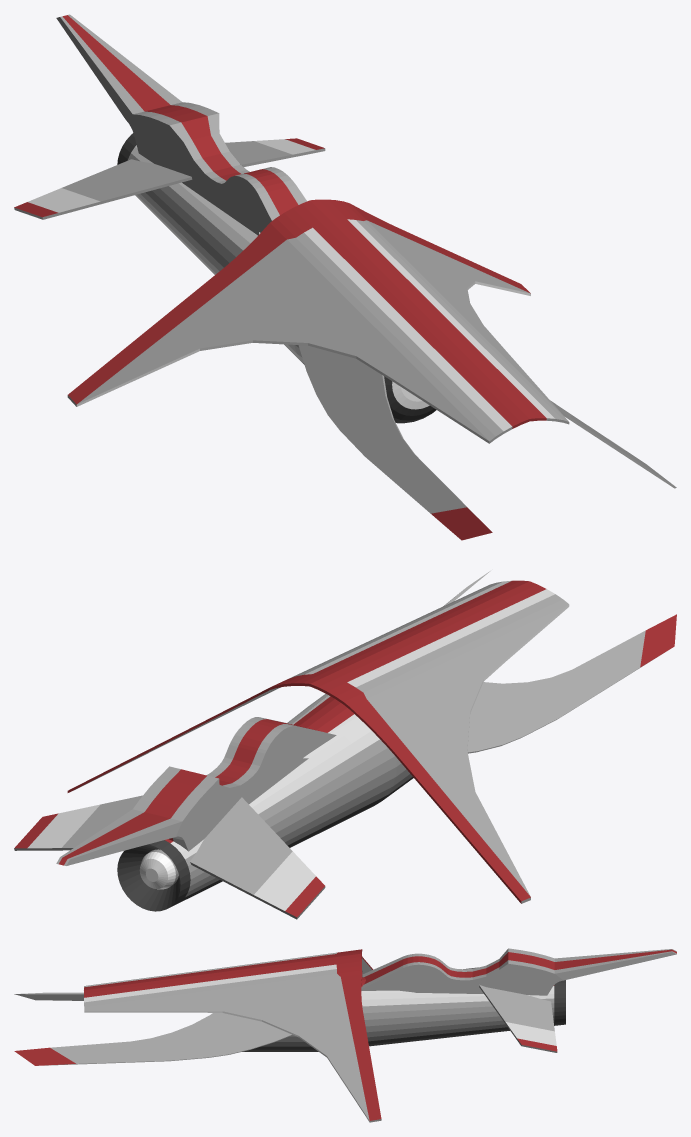
Rendered from speeder3.glb.
The picture shows the model from 3 angles, top to bottom: view 1: azimuth 30°, elevation 25°; view 2: azimuth 150°, elevation 25°; view 3: azimuth 270°, elevation 25°; orthographic projection. The views are drawn at different scales.
Parts seen in each view (by area): view 1: Plane.001; view 2: Plane.001; view 3: Plane.001.
Part boxes in pixels (x1,y1,x2,y2): Plane.001: (14,14,676,540); Plane.001: (14,571,676,919); Plane.001: (14,948,676,1122).
Bounding box in the file's own units: 1.82 × 0.618 × 3.64.
